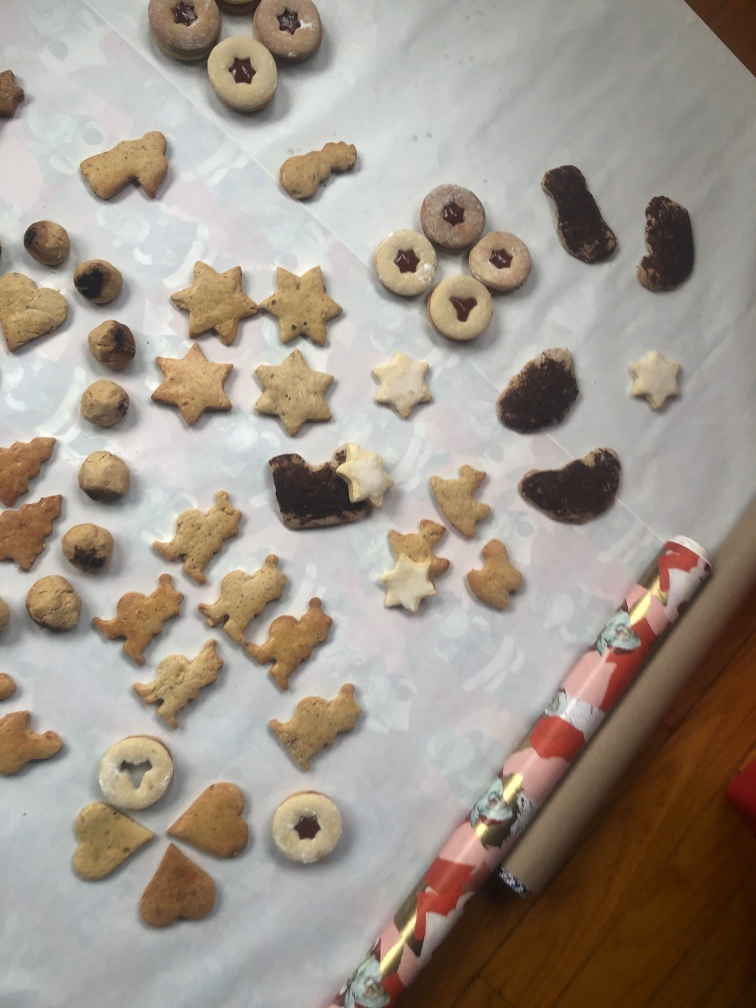angel: (78, 127, 173, 205)
christmas shortbread with jam: (98, 736, 178, 807), (208, 30, 275, 110), (272, 792, 340, 864), (428, 272, 495, 337), (379, 224, 438, 295), (145, 1, 220, 56), (252, 4, 320, 62), (421, 187, 484, 246), (470, 233, 534, 291)
christmas tree: (3, 496, 66, 574), (2, 434, 55, 503)
heart: (73, 797, 154, 878), (170, 785, 254, 861), (2, 268, 69, 356), (144, 848, 217, 927)
lamb: (426, 463, 491, 539), (2, 708, 68, 778), (467, 542, 524, 614), (390, 521, 442, 563)
santa claus: (131, 632, 230, 734), (149, 490, 242, 585), (267, 681, 362, 769), (90, 572, 181, 660), (249, 597, 333, 689), (201, 554, 286, 639)
snowball: (27, 577, 81, 632), (78, 450, 132, 503), (73, 258, 128, 308), (81, 378, 131, 431), (89, 319, 136, 374), (64, 522, 113, 573), (22, 222, 67, 266)
snowman: (278, 140, 358, 199)
star: (151, 337, 237, 426), (170, 260, 252, 352), (261, 261, 343, 350), (256, 348, 336, 434), (373, 351, 432, 421), (374, 555, 433, 613), (628, 351, 685, 407), (342, 445, 396, 501)
weird #1: (542, 162, 616, 271), (520, 451, 619, 528), (497, 348, 577, 434), (637, 191, 702, 292), (266, 455, 351, 528)
